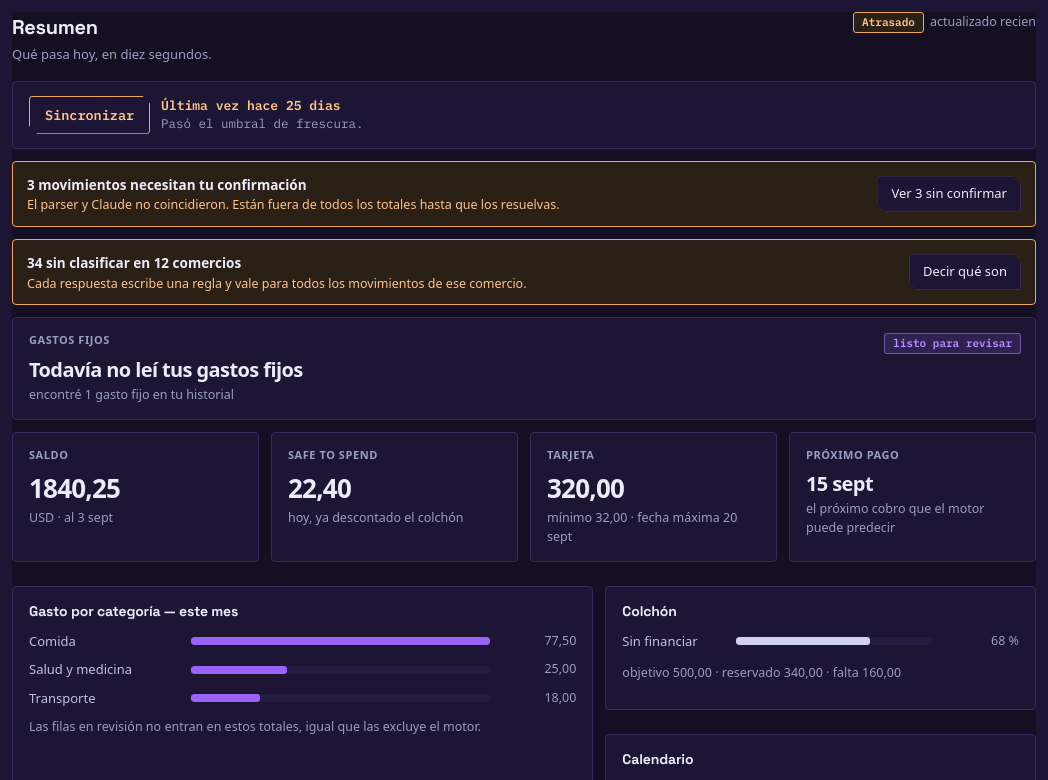
los dos avisos son dos, y llevan a lugares distintos › después de un sync, el de categoría se acota al lote que entró (D7-b)
Step 1. Click the button with test id "sync-button-accion" → (90, 115), box [29,96,150,134]
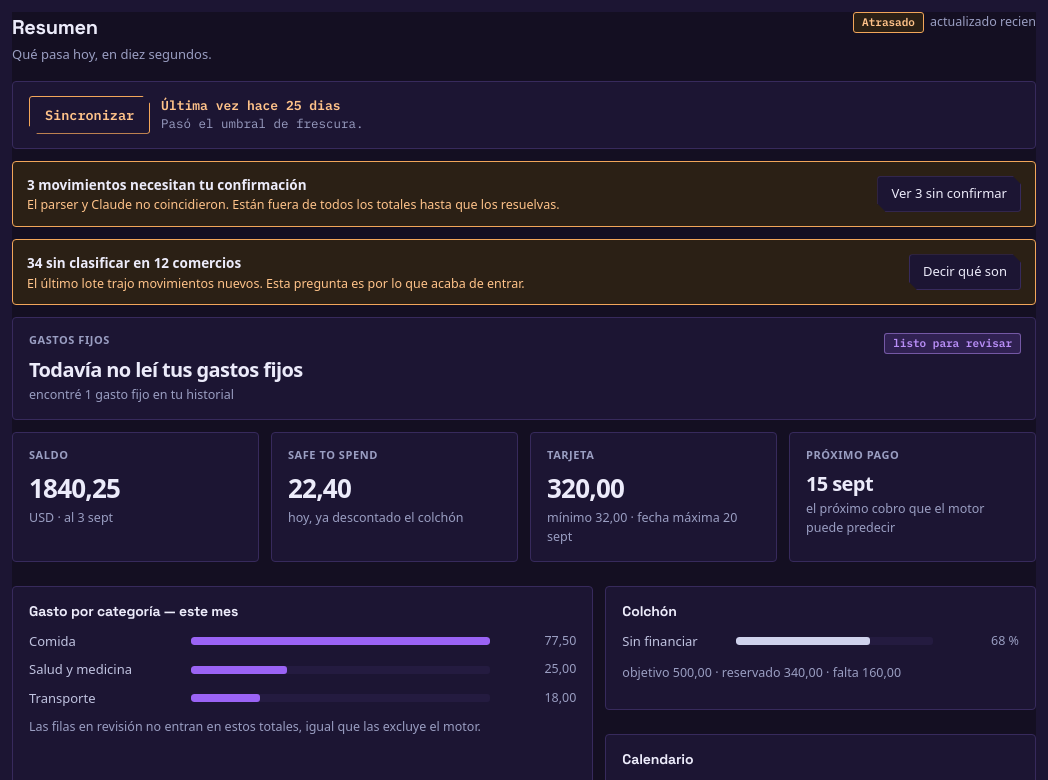
Now the element with test id "aviso-categoria" shows "lo que acaba de entrar", box [27,274,525,292]
